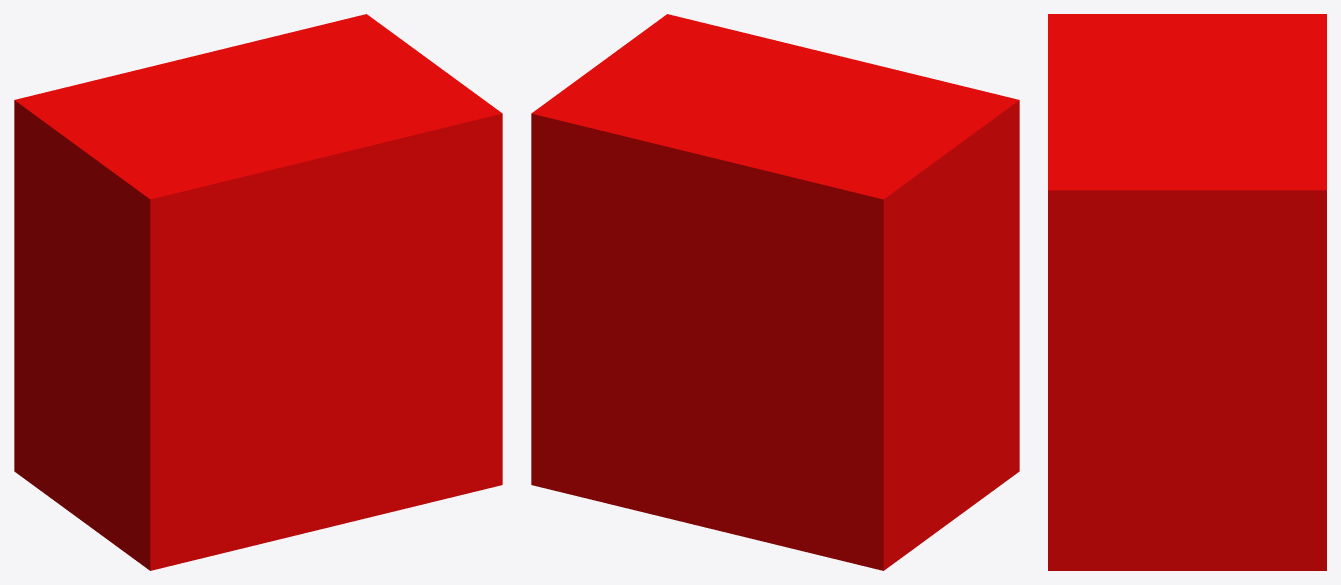
The model's file is thoracic7_col.dae.
The picture shows the model from 3 angles, left to right: view 1: azimuth 30°, elevation 25°; view 2: azimuth 150°, elevation 25°; view 3: azimuth 270°, elevation 25°; orthographic projection. The views are drawn at different scales.
Parts seen in each view (by area): view 1: node0; view 2: node0; view 3: node0.
Part boxes in pixels (x1,y1,x2,y2): node0: (14,14,502,570); node0: (531,14,1019,570); node0: (1048,14,1326,570).
Bounding box in the file's own units: 0.0731 × 0.0736 × 0.0488.
